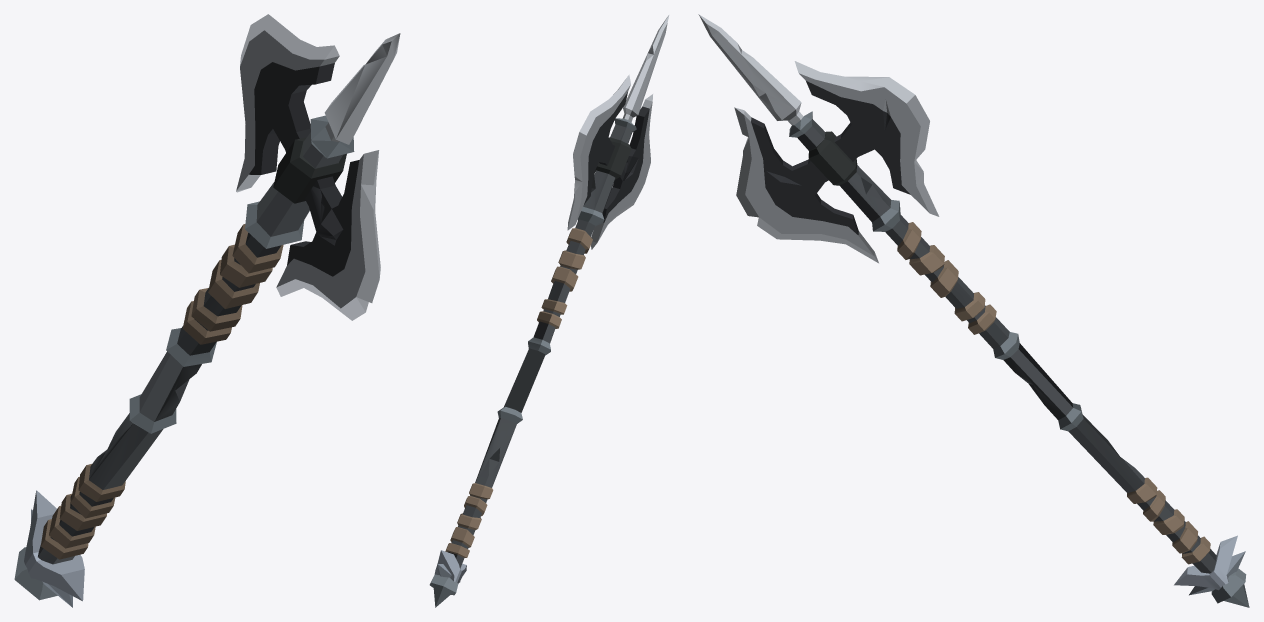
Rendered from dk-halberd-01.glb.
3 renders of one model, left to right at view 1: azimuth 30°, elevation 25°; view 2: azimuth 150°, elevation 25°; view 3: azimuth 270°, elevation 25°, orthographic. The views are drawn at different scales.
Parts seen in each view (by area): view 1: dk-halberd-01; view 2: dk-halberd-01; view 3: dk-halberd-01.
Part boxes in pixels (x1,y1,x2,y2): dk-halberd-01: [14, 14, 400, 607]; dk-halberd-01: [429, 15, 669, 607]; dk-halberd-01: [698, 14, 1249, 607].
Size of the model in its own units: 0.1665 by 1.58 by 1.36.
Materials: 1 (1 with a texture image).
